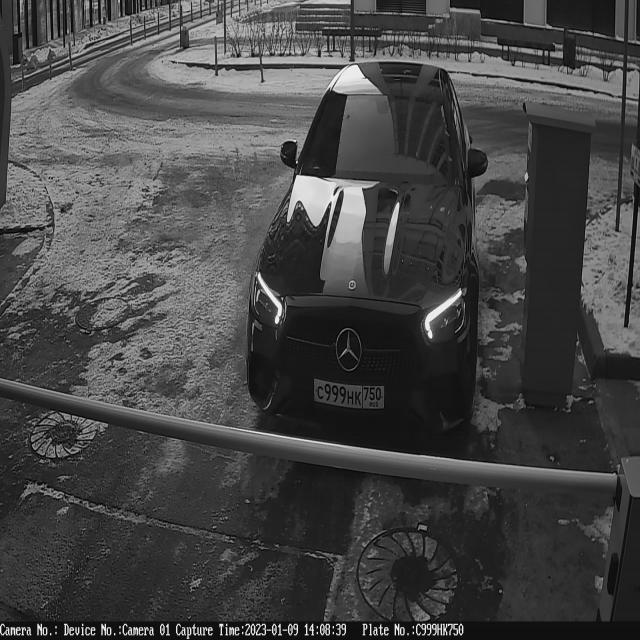car-plate-numbers: (312, 374, 388, 416)
